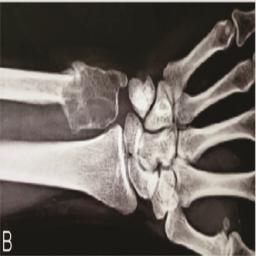cancer: (63, 62, 127, 131)
